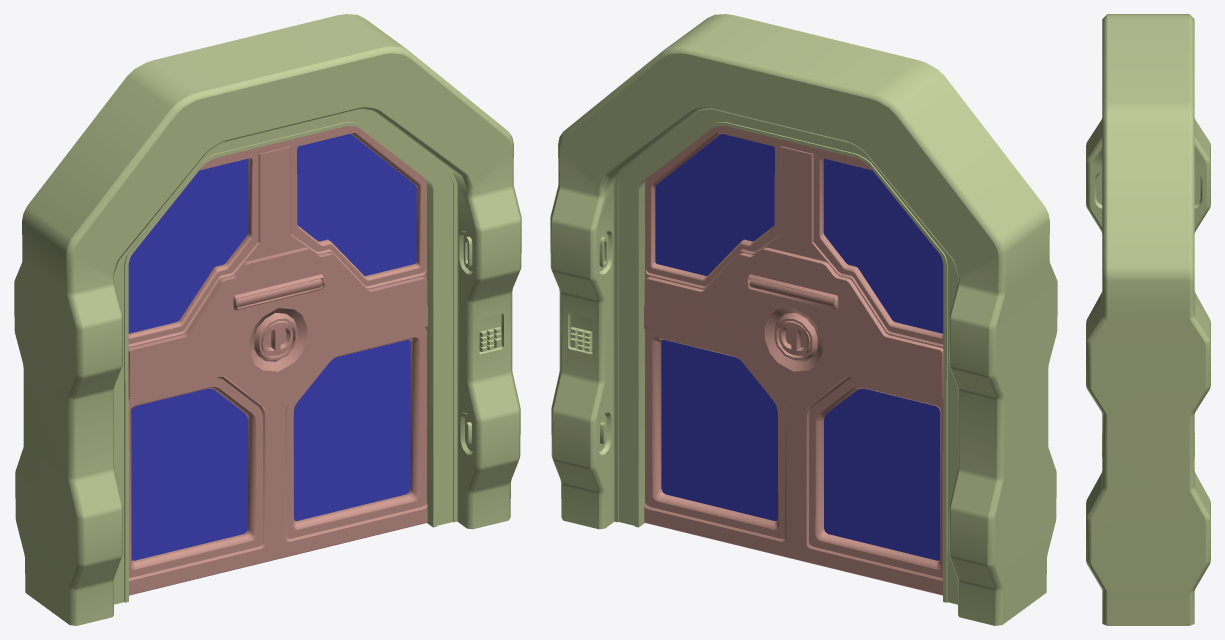
Rendered from DORUDT.fbx.
3 views of the same model, side by side, from view 1: azimuth 30°, elevation 25°; view 2: azimuth 150°, elevation 25°; view 3: azimuth 270°, elevation 25° (orthographic). The views are drawn at different scales.
Visible parts, largest first — view 1: 1_low, 4_low, 4.1_low, 2.1_low, 2_low; view 2: 1_low, 4_low, 4.1_low, 2.1_low, 2_low; view 3: 1_low.
Boxes of the visible parts, box(x1,y1,x2,y2) form: 1_low: box(14, 14, 521, 625); 4_low: box(128, 247, 427, 595); 4.1_low: box(131, 339, 410, 560); 2.1_low: box(128, 134, 416, 333); 2_low: box(128, 126, 426, 348); 1_low: box(550, 14, 1057, 625); 4_low: box(644, 247, 943, 595); 4.1_low: box(661, 339, 940, 560); 2.1_low: box(655, 134, 943, 333); 2_low: box(645, 126, 943, 348); 1_low: box(1086, 14, 1210, 625).
Bounding box in the file's own units: 180 × 192 × 46.73.
